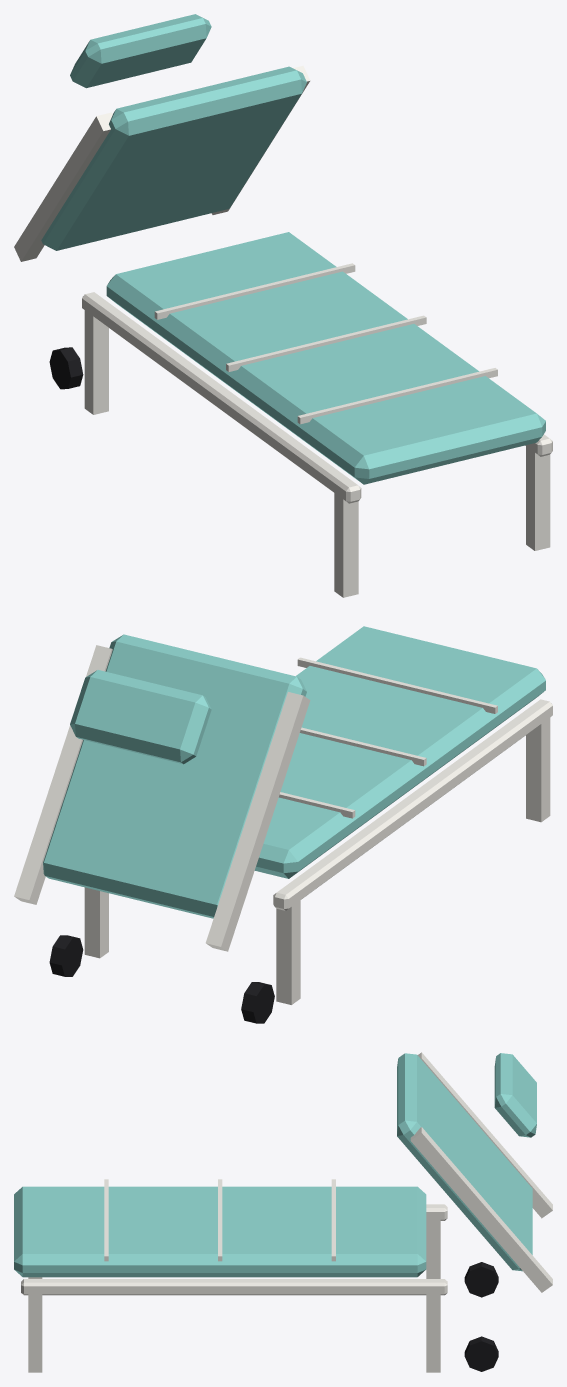
The model's file is lounge_chair.glb.
3 renders of one model, top to bottom at view 1: azimuth 30°, elevation 25°; view 2: azimuth 150°, elevation 25°; view 3: azimuth 270°, elevation 25°, orthographic. The views are drawn at different scales.
Parts seen in each view (by area): view 1: lounge_chair; view 2: lounge_chair; view 3: lounge_chair.
Part boxes in pixels (bbox=[...]): lounge_chair: bbox=[14, 14, 552, 597]; lounge_chair: bbox=[14, 626, 552, 1023]; lounge_chair: bbox=[14, 1052, 552, 1372].
Size of the model in its own units: 0.67 by 1 by 1.9.
